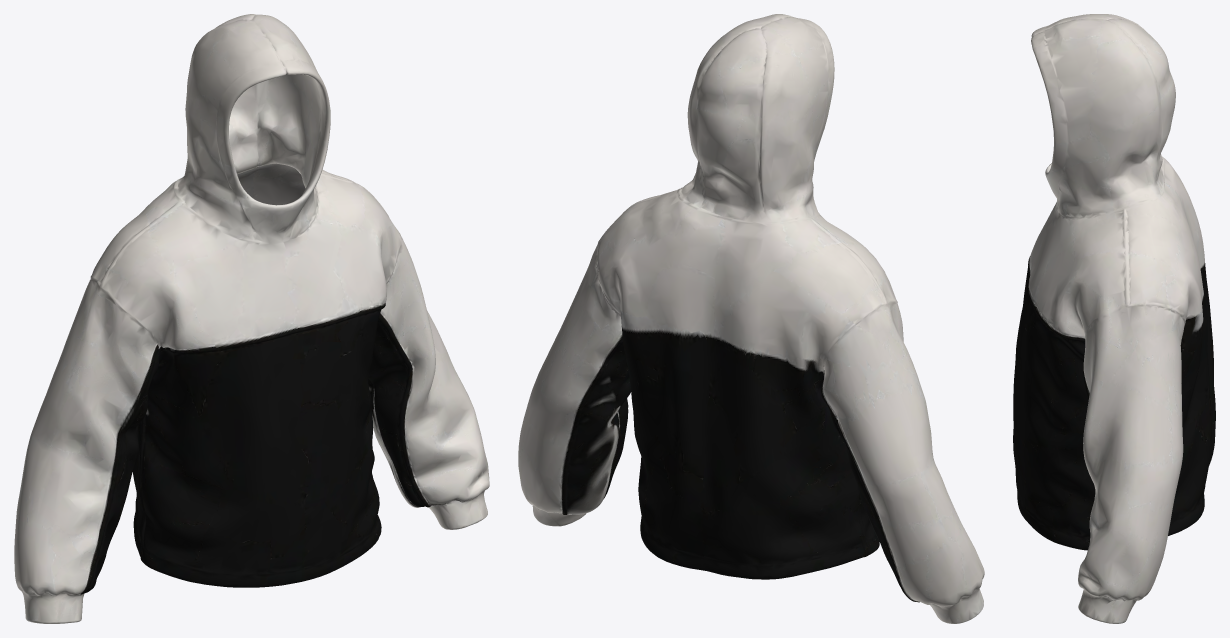
Rendered from hoodie-off.glb.
3 renders of one model, left to right at view 1: azimuth 30°, elevation 25°; view 2: azimuth 150°, elevation 25°; view 3: azimuth 270°, elevation 25°, orthographic. The views are drawn at different scales.
Size of the model in its own units: 1.66 by 1.9 by 0.6892.
Materials: 1 (1 with a texture image).
